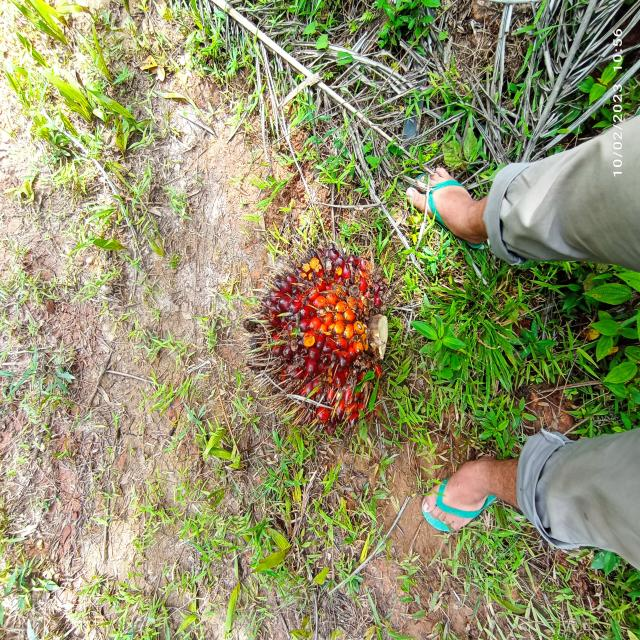fraksi 3: (229, 231, 401, 459)
